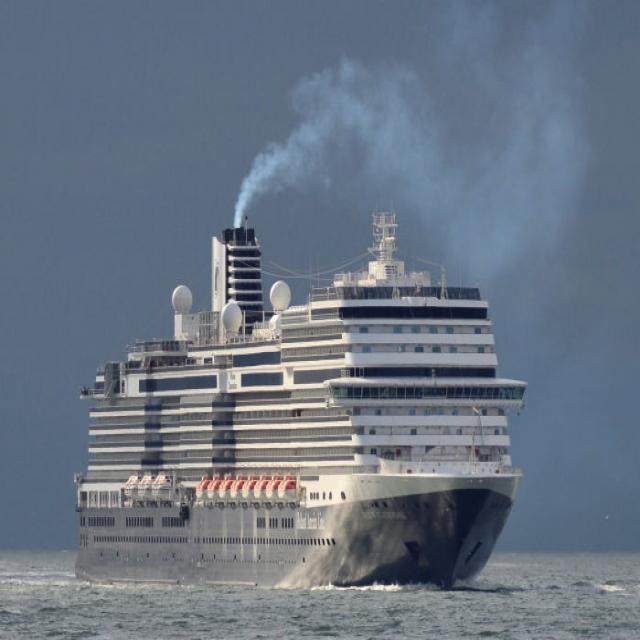cruises: (70, 197, 532, 603)
